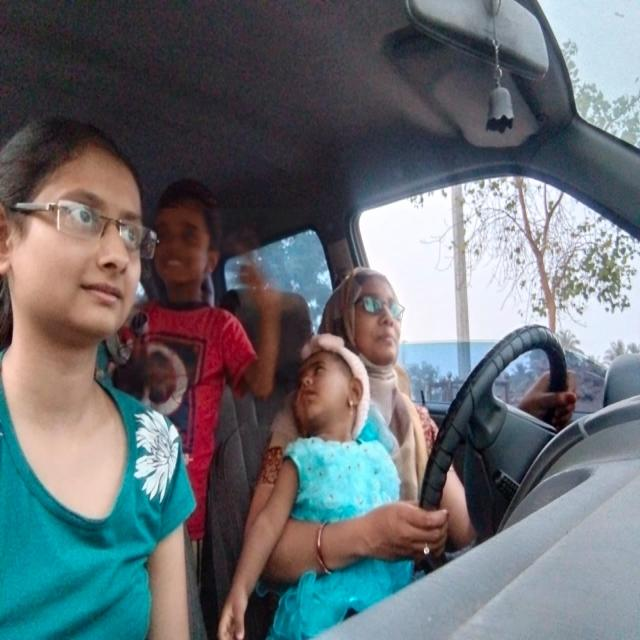child: (287, 342, 363, 431)
person: (0, 127, 153, 352), (152, 186, 224, 300), (354, 275, 409, 375)
